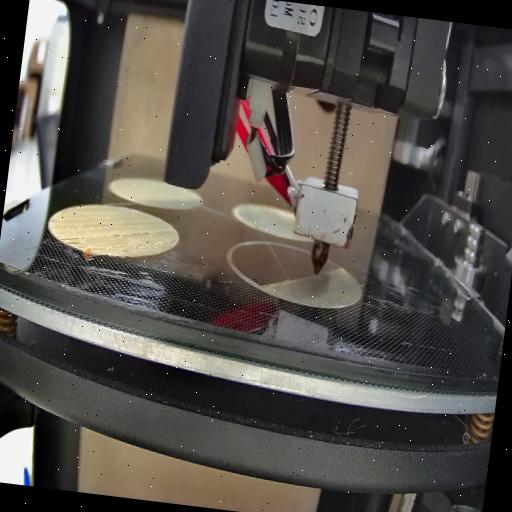under_extrusion: (112, 222, 170, 245), (59, 230, 89, 254), (48, 212, 60, 228)
